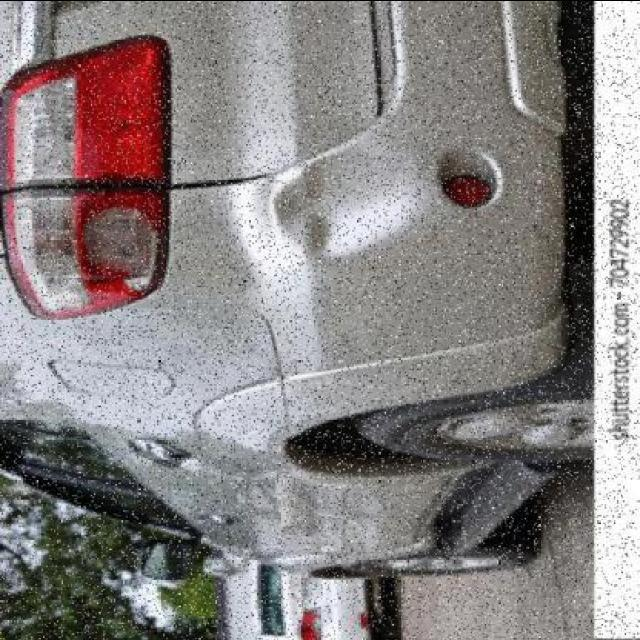rear-bumper-dent: (249, 2, 576, 388)
